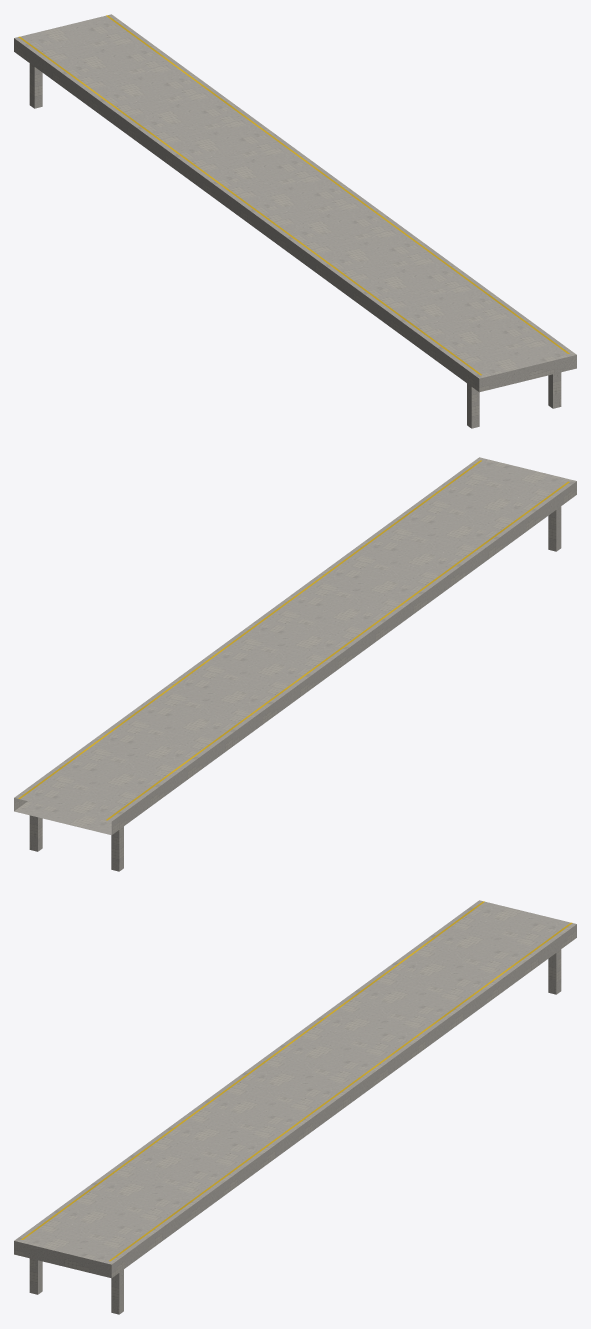
Rendered from SM_MoloItalia_Dito_v2_LOD2.fbx.
3 views of the same model, one above another, from view 1: azimuth 30°, elevation 25°; view 2: azimuth 150°, elevation 25°; view 3: azimuth 330°, elevation 25° (orthographic).
Parts seen in each view (by area): view 1: SM_MoloItalia_Dito_v2_LOD2; view 2: SM_MoloItalia_Dito_v2_LOD2; view 3: SM_MoloItalia_Dito_v2_LOD2.
Boxes of the visible parts, x1,y1,x2,y2 form: SM_MoloItalia_Dito_v2_LOD2: (14, 14, 576, 428); SM_MoloItalia_Dito_v2_LOD2: (14, 457, 576, 871); SM_MoloItalia_Dito_v2_LOD2: (14, 900, 576, 1314).
Bounding box in the file's own units: 600 × 4950 × 351.
Materials: 2 (2 with a texture image).
